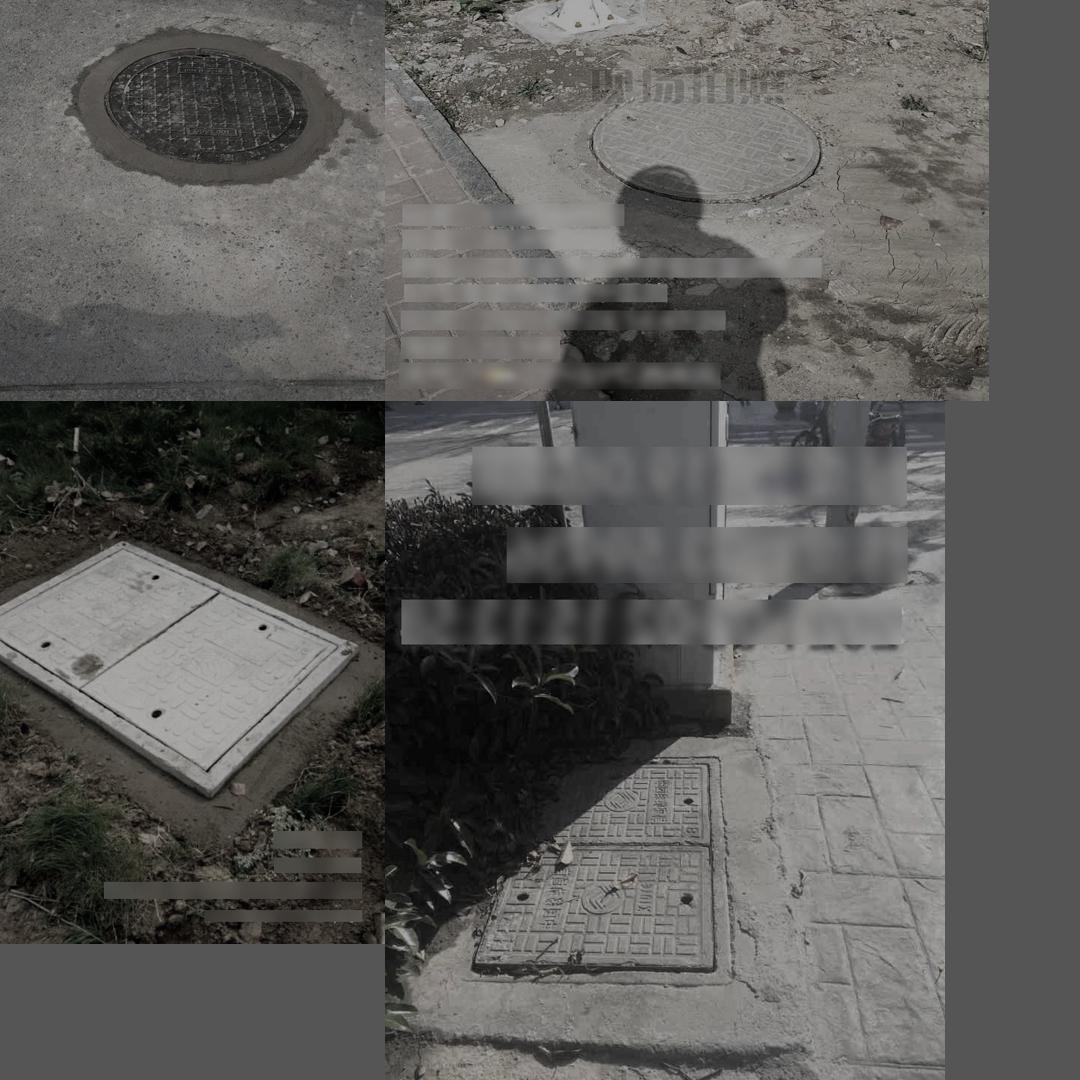good: (0, 541, 360, 799), (458, 756, 734, 980), (66, 14, 354, 189), (576, 86, 832, 215)
